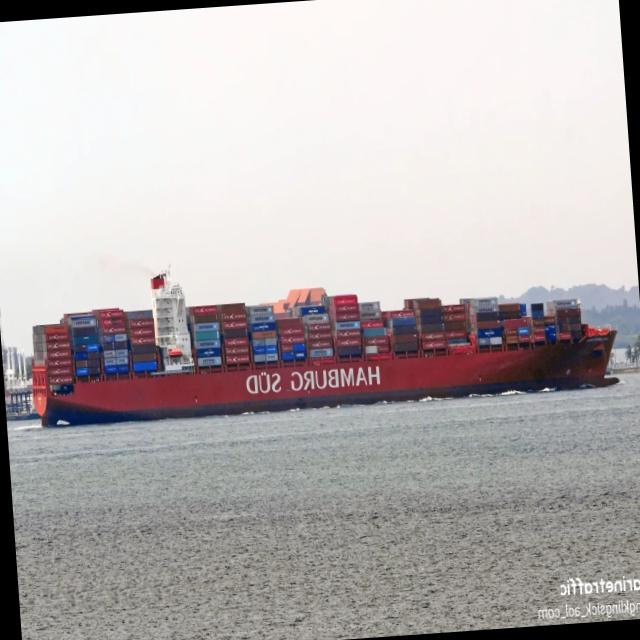Cargo: (33, 272, 617, 425)
